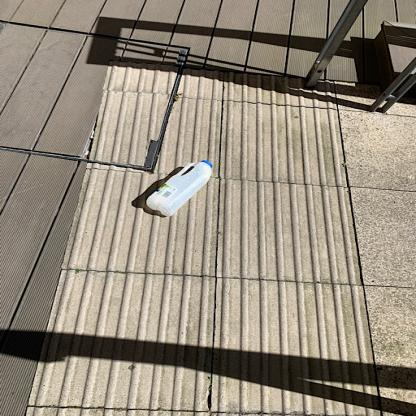trash: (139, 157, 216, 221)
